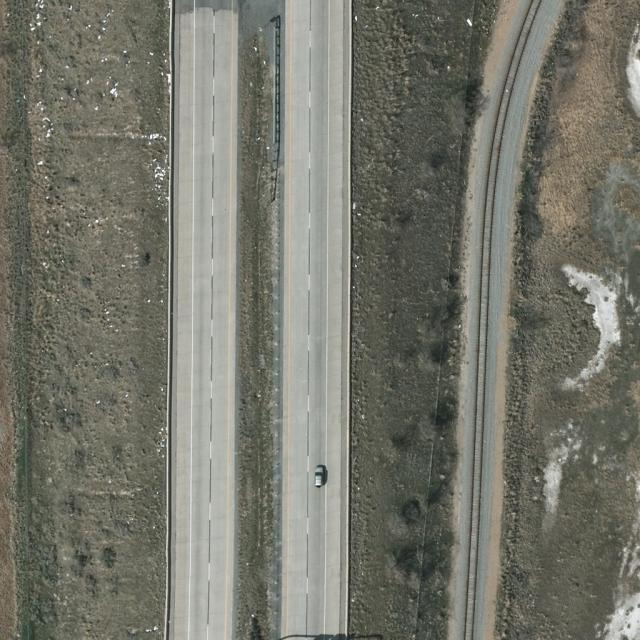vehicle: (314, 466, 327, 488)
